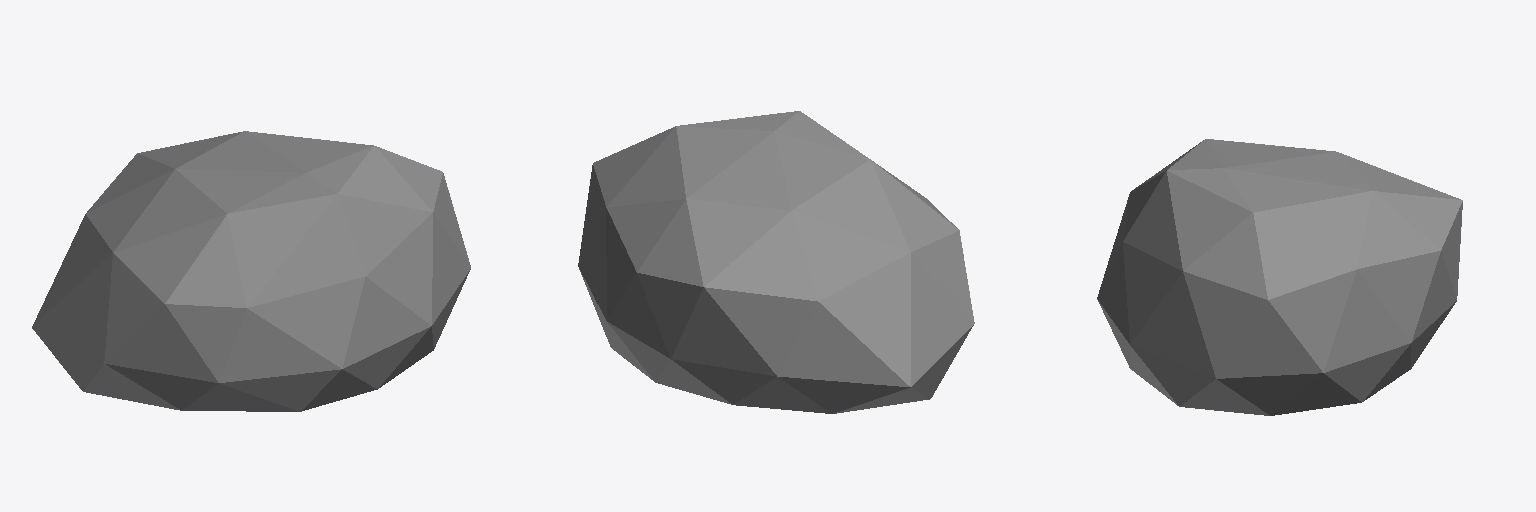
File: stone.obj
3 renders of one model, left to right at view 1: azimuth 30°, elevation 25°; view 2: azimuth 150°, elevation 25°; view 3: azimuth 270°, elevation 25°, orthographic.
Visible parts, largest first — view 1: caillou1_Icosphere; view 2: caillou1_Icosphere; view 3: caillou1_Icosphere.
Part boxes in pixels (x1,y1,x2,y2): caillou1_Icosphere: (32, 131, 470, 411); caillou1_Icosphere: (578, 111, 974, 413); caillou1_Icosphere: (1097, 139, 1462, 415).
Bounding box in the file's own units: 0.8099 × 0.416 × 0.6999.